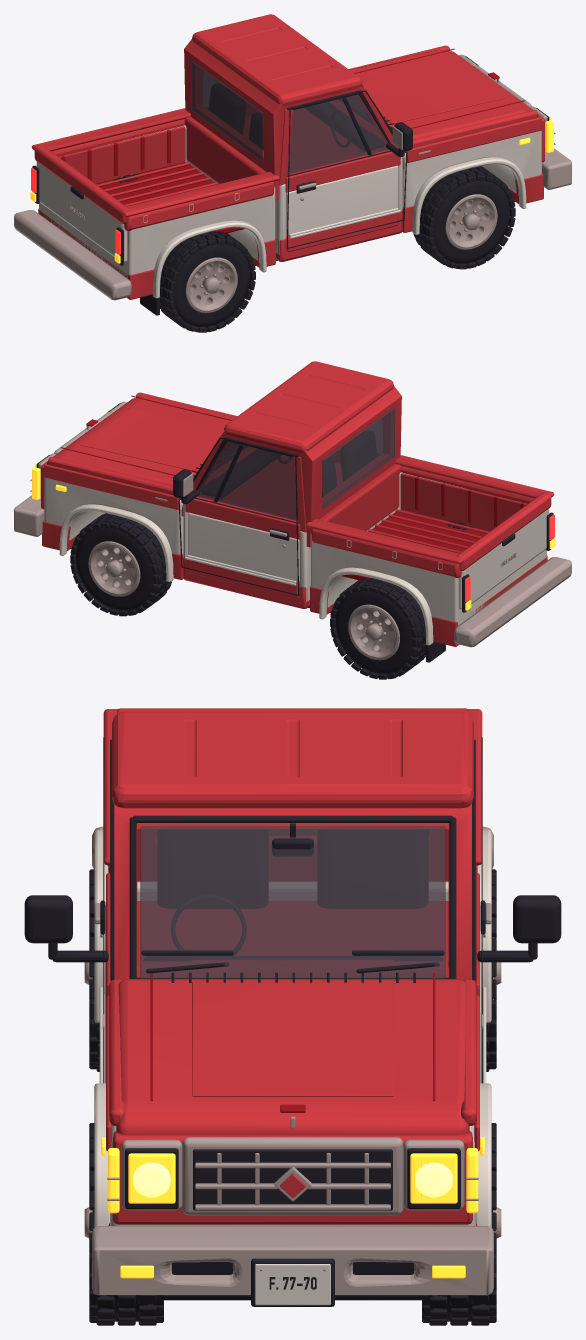
3 views of the same model, one above another, from view 1: azimuth 30°, elevation 25°; view 2: azimuth 150°, elevation 25°; view 3: azimuth 270°, elevation 25° (orthographic). The views are drawn at different scales.
Parts seen in each view (by area): view 1: body, static_pal_picketWhite, wheelFL_pal_uiDark, wheelRL_pal_uiDark, doorL_pal_asphalt, static_pal_sidewalk, doorL_pal_picketWhite, static_pal_asphalt, static_pal_uiDark, doorL_pal_survivorRed, tailgate_pal_picketWhite, static_pal_blood (+4 smaller); view 2: body, static_pal_picketWhite, wheelFR_pal_uiDark, wheelRR_pal_uiDark, doorR_pal_asphalt, static_pal_sidewalk, doorR_pal_picketWhite, static_pal_asphalt, static_pal_uiDark, doorR_pal_survivorRed, tailgate_pal_picketWhite, static_pal_blood (+4 smaller); view 3: body, static_pal_asphalt, static_pal_uiDark, static_pal_sidewalk, static_pal_picketWhite, doorL_pal_uiDark, doorR_pal_uiDark, wheelFR_pal_uiDark, wheelFL_pal_uiDark, static_emi_schoolBusYellow, lampHeadL_emi_schoolBusYellow, lampHeadR_emi_schoolBusYellow (+6 smaller).
Part boxes in pixels (x1,y1,x2,y2): body: (32, 14, 544, 299); static_pal_picketWhite: (39, 125, 541, 298); wheelFL_pal_uiDark: (413, 166, 515, 269); wheelRL_pal_uiDark: (160, 231, 255, 332); doorL_pal_asphalt: (287, 94, 388, 173); static_pal_sidewalk: (14, 54, 571, 300); doorL_pal_picketWhite: (286, 165, 398, 236); static_pal_asphalt: (191, 61, 371, 162); static_pal_uiDark: (32, 56, 549, 315); doorL_pal_survivorRed: (285, 151, 400, 252); tailgate_pal_picketWhite: (36, 161, 127, 262); static_pal_blood: (61, 48, 525, 244); body: (41, 361, 553, 646); static_pal_picketWhite: (44, 472, 546, 645); wheelFR_pal_uiDark: (70, 513, 172, 616); wheelRR_pal_uiDark: (330, 578, 425, 679); doorR_pal_asphalt: (197, 441, 298, 520); static_pal_sidewalk: (14, 401, 571, 647); doorR_pal_picketWhite: (187, 512, 299, 583); static_pal_asphalt: (214, 408, 394, 509); static_pal_uiDark: (36, 403, 553, 662); doorR_pal_survivorRed: (185, 498, 300, 599); tailgate_pal_picketWhite: (458, 508, 549, 609); static_pal_blood: (60, 395, 524, 591); body: (103, 709, 482, 1225); static_pal_asphalt: (140, 826, 445, 978); static_pal_uiDark: (125, 815, 460, 1306); static_pal_sidewalk: (92, 826, 493, 1295); static_pal_picketWhite: (94, 829, 491, 1305); doorL_pal_uiDark: (24, 737, 113, 1083); doorR_pal_uiDark: (472, 737, 561, 1083); wheelFR_pal_uiDark: (422, 1123, 496, 1325); wheelFL_pal_uiDark: (89, 1123, 163, 1325); static_emi_schoolBusYellow: (101, 1136, 484, 1278); lampHeadL_emi_schoolBusYellow: (128, 1153, 175, 1203); lampHeadR_emi_schoolBusYellow: (410, 1153, 457, 1203).
Bounding box in the file's own units: 5.12 × 2.23 × 2.55.
